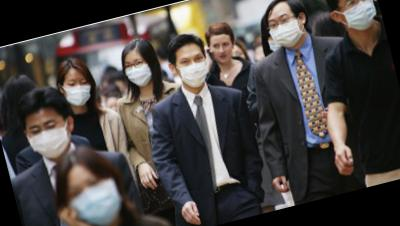with_mask: (62, 169, 126, 226), (24, 115, 76, 164), (263, 8, 308, 51), (172, 49, 213, 90), (61, 74, 96, 110), (122, 53, 155, 91)
without_mask: (209, 37, 236, 65)
